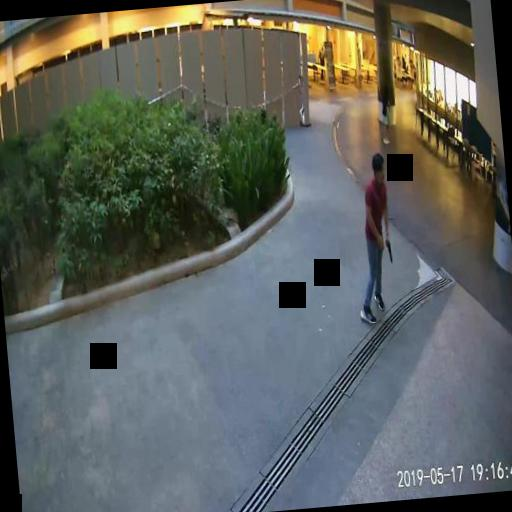Handgun: (384, 236, 392, 262)
